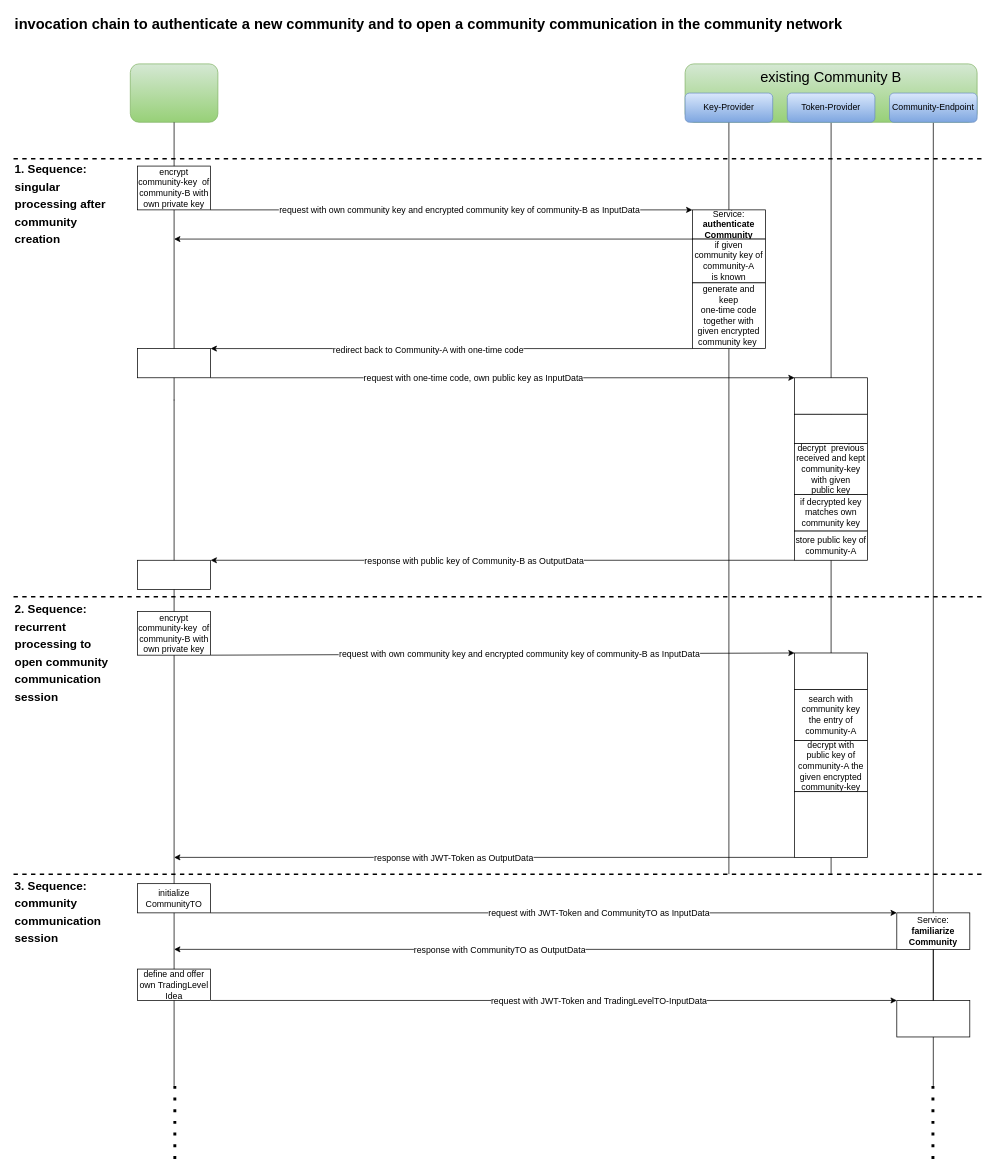
The diagram is 998 pixels wide and 1173 high, and some of its shapes have lost their labels. The centre of each missing label's shape, as x and y in pixels:
"check one-time code" belongs at (x=831, y=428).
"Endpoint: redirect URI" belongs at (x=174, y=363).
"Endpoint: verify OneTimeCode" belongs at (x=831, y=395).
"if decrypted key matches own community key generate JWT-Token" belongs at (x=831, y=824).
"new Community A" belongs at (x=174, y=92).
"Service: open Communication" belongs at (x=831, y=670).
"Service: request TradingLevel" belongs at (x=933, y=1018).
"store public key of Community-B" belongs at (x=174, y=574).
